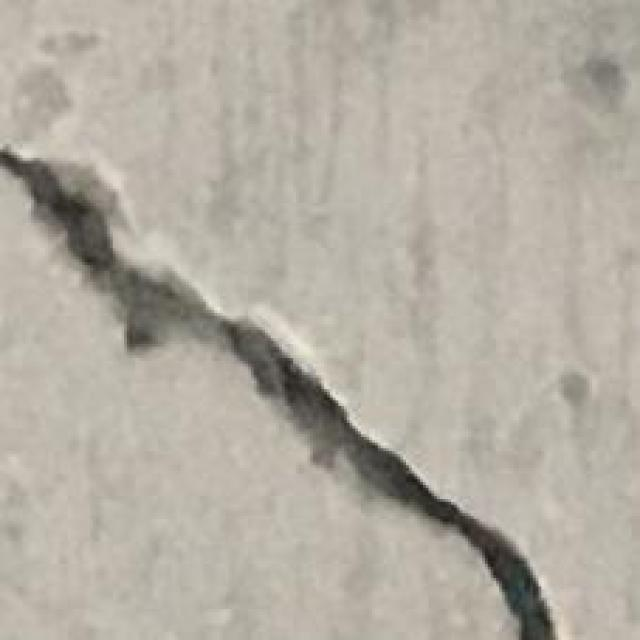Crack: (3, 141, 558, 640)
